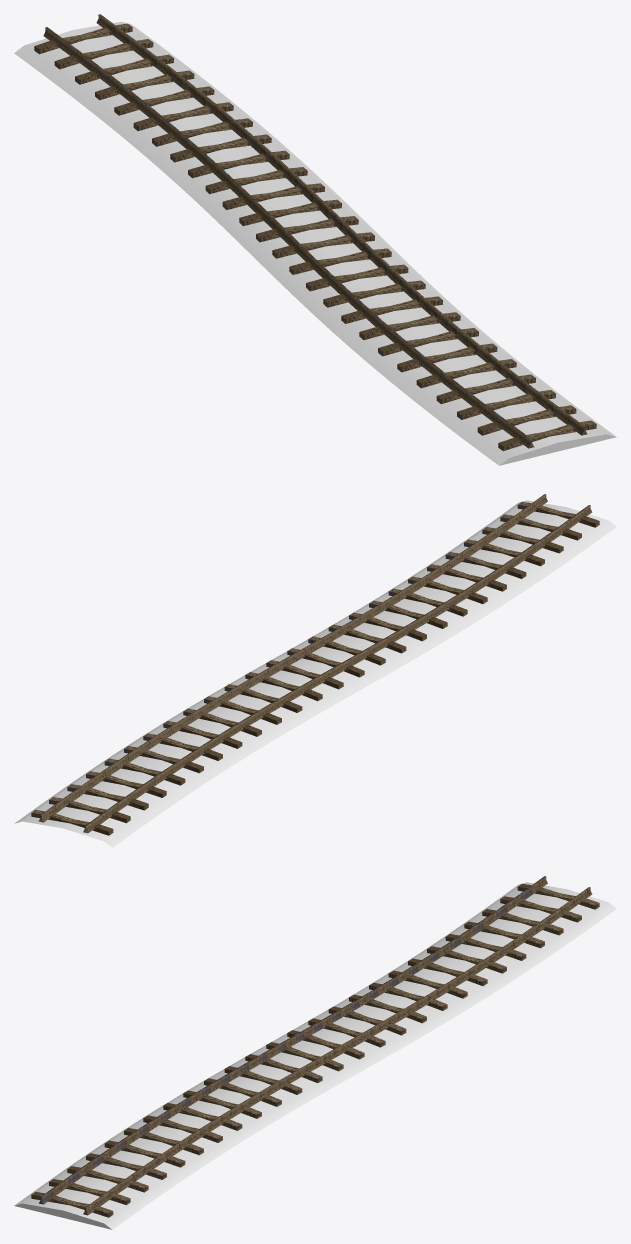
File: rail bend to right slim_LOD1.fbx
The picture shows the model from 3 angles, top to bottom: view 1: azimuth 30°, elevation 25°; view 2: azimuth 150°, elevation 25°; view 3: azimuth 330°, elevation 25°; orthographic projection. The views are drawn at different scales.
Parts seen in each view (by area): view 1: rail_bend_to_right_slim_LOD1; view 2: rail_bend_to_right_slim_LOD1; view 3: rail_bend_to_right_slim_LOD1.
Boxes of the visible parts, box(x1,y1,x2,y2) form: rail_bend_to_right_slim_LOD1: box(14, 14, 616, 465); rail_bend_to_right_slim_LOD1: box(14, 494, 616, 847); rail_bend_to_right_slim_LOD1: box(14, 876, 616, 1229).
Bounding box in the file's own units: 1.5 × 0.1466 × 8.
